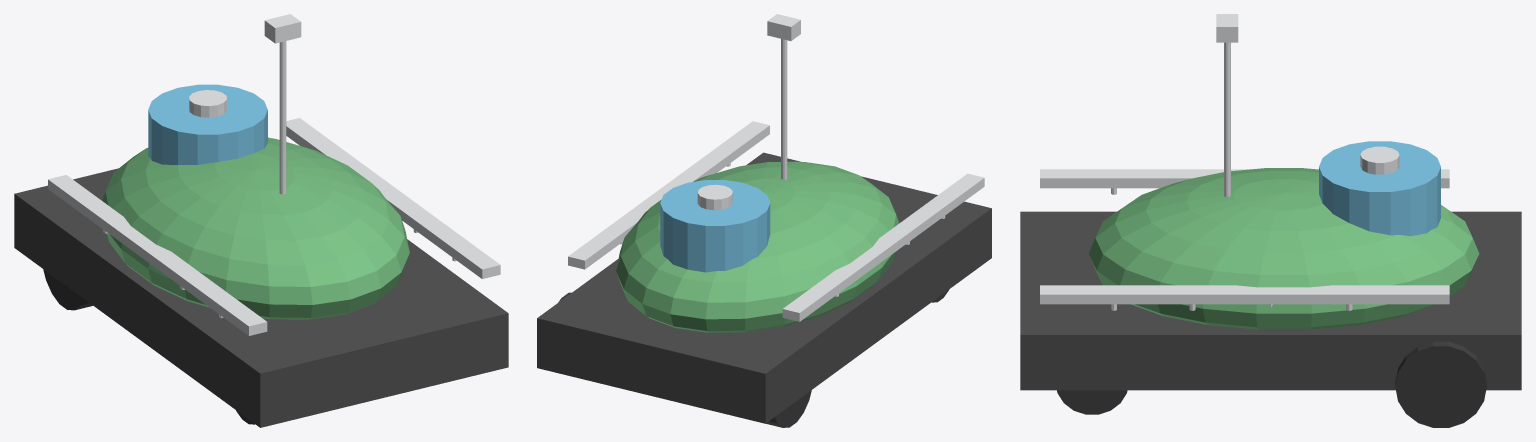
Rendered from sprayer.glb.
3 views of the same model, side by side, from view 1: azimuth 30°, elevation 25°; view 2: azimuth 150°, elevation 25°; view 3: azimuth 270°, elevation 25° (orthographic). The views are drawn at different scales.
Parts seen in each view (by area): view 1: RobotSprayer; view 2: RobotSprayer; view 3: RobotSprayer.
Boxes of the visible parts, x1,y1,x2,y2 form: RobotSprayer: (14, 14, 508, 427); RobotSprayer: (537, 14, 991, 427); RobotSprayer: (1020, 14, 1521, 427).
Bounding box in the file's own units: 1.4 × 1.73 × 2.3.
